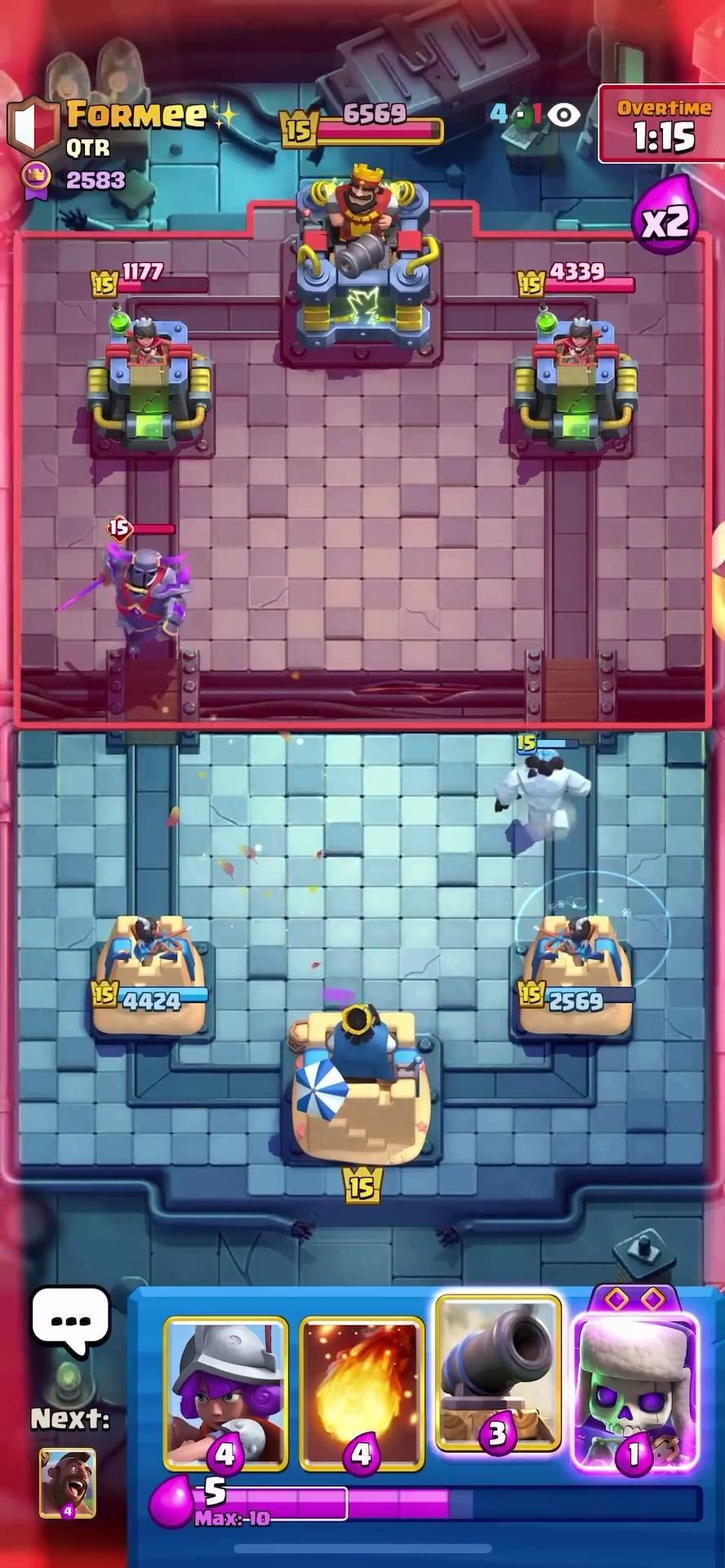ice_golem: (492, 725, 594, 831)
